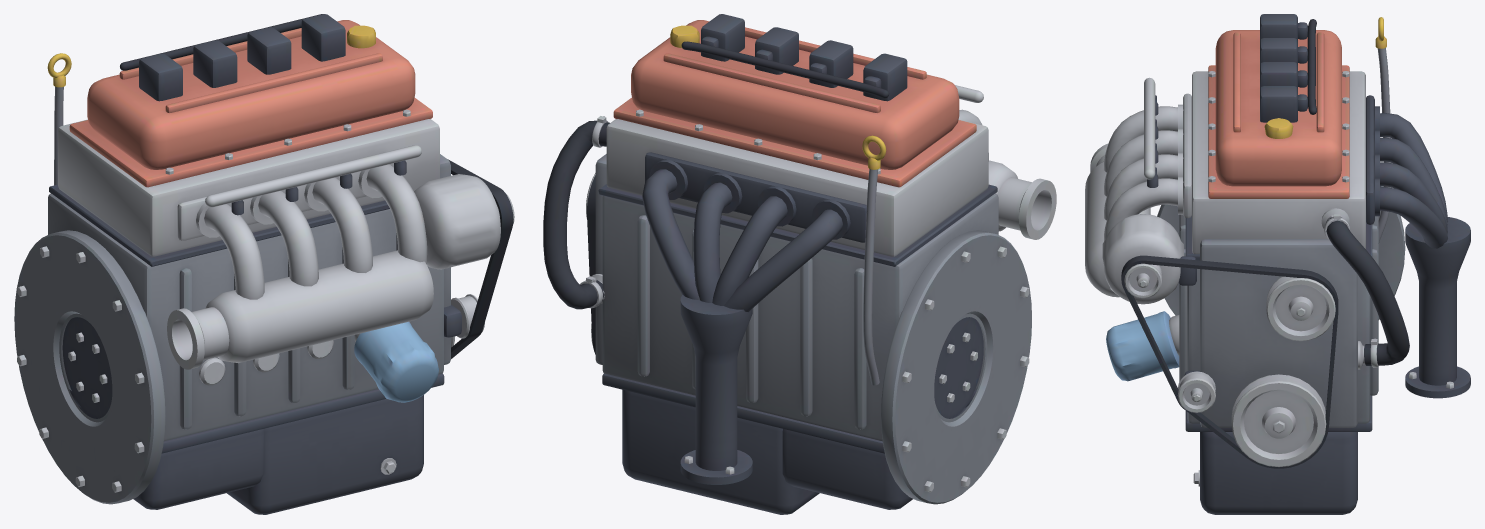
3 views of the same model, side by side, from view 1: azimuth 30°, elevation 25°; view 2: azimuth 150°, elevation 25°; view 3: azimuth 270°, elevation 25° (orthographic). The views are drawn at different scales.
Visible parts, largest first — view 1: car-engine_body; view 2: car-engine_body; view 3: car-engine_body.
Boxes of the visible parts, x1,y1,x2,y2 form: car-engine_body: [14, 14, 514, 514]; car-engine_body: [543, 14, 1056, 514]; car-engine_body: [1085, 14, 1470, 514].
Bounding box in the file's own units: 0.7075 × 0.8143 × 0.7088.
1 material, 1 textured.
